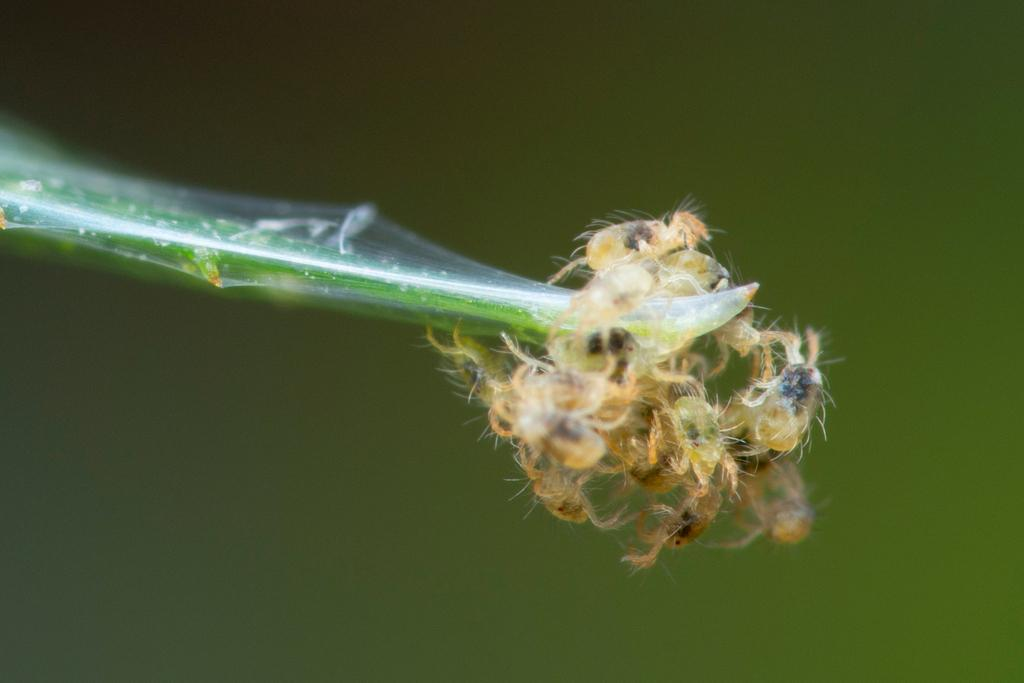tiny_pests: (385, 159, 892, 595)
